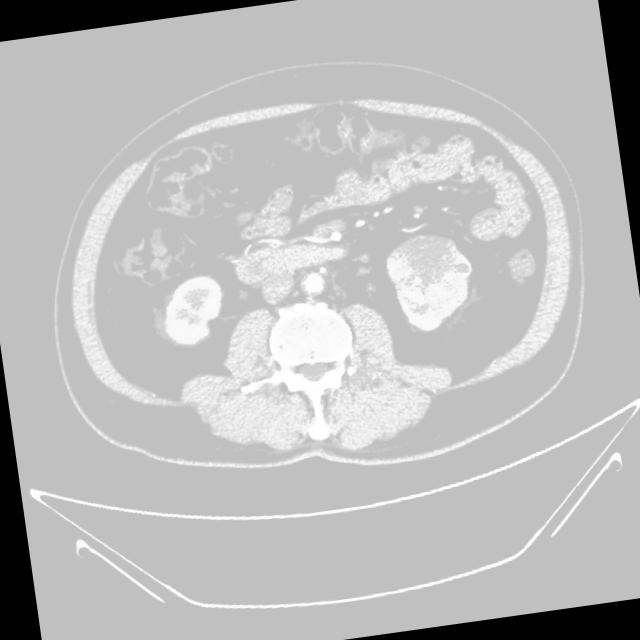TUMOR: (227, 154, 570, 346)
